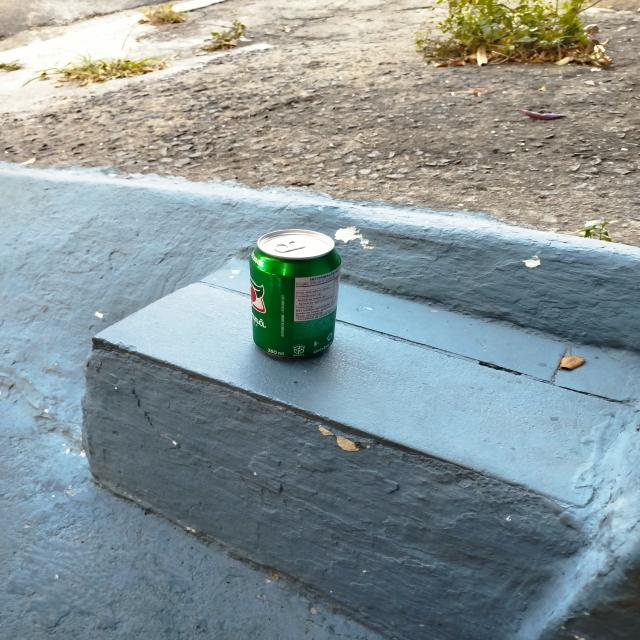Guarana: (250, 231, 344, 355)
